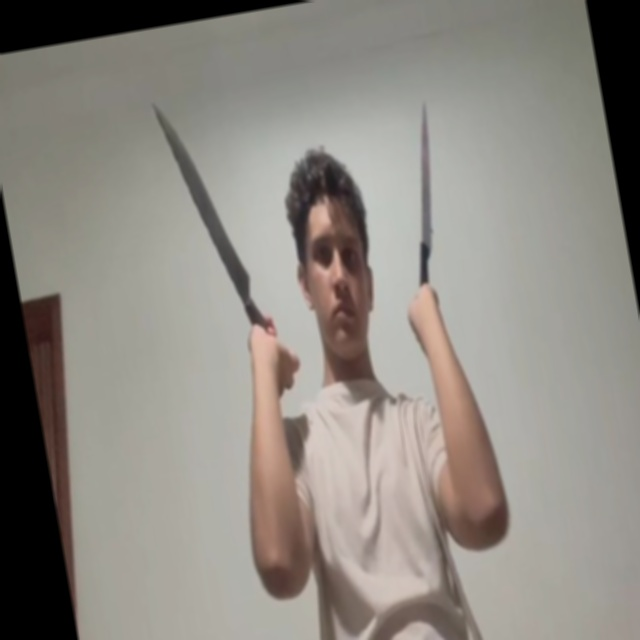Sharp-Object: (152, 88, 250, 294), (398, 100, 450, 247)
